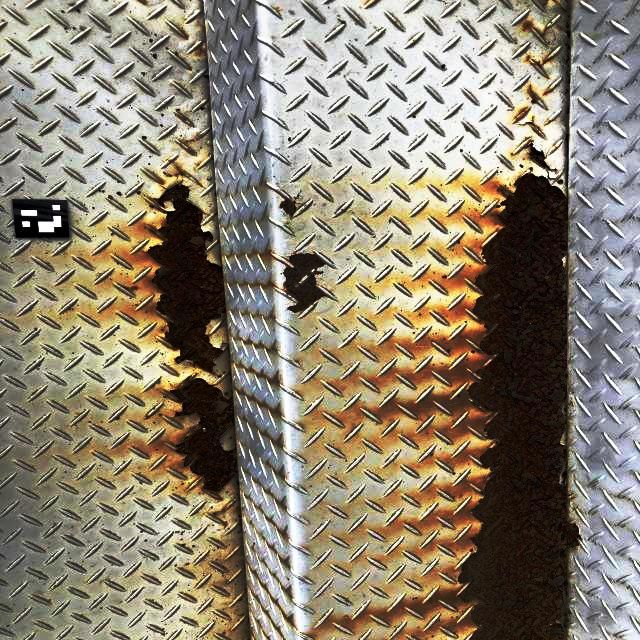Corrosion: (459, 174, 582, 640), (148, 179, 226, 373), (170, 374, 238, 493), (283, 253, 327, 313), (524, 140, 557, 172), (519, 116, 543, 137), (280, 196, 297, 217), (530, 55, 553, 68), (528, 84, 539, 99)
